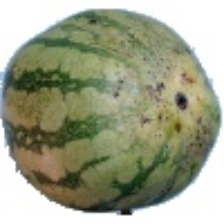watermelon: (38, 56, 184, 203)
